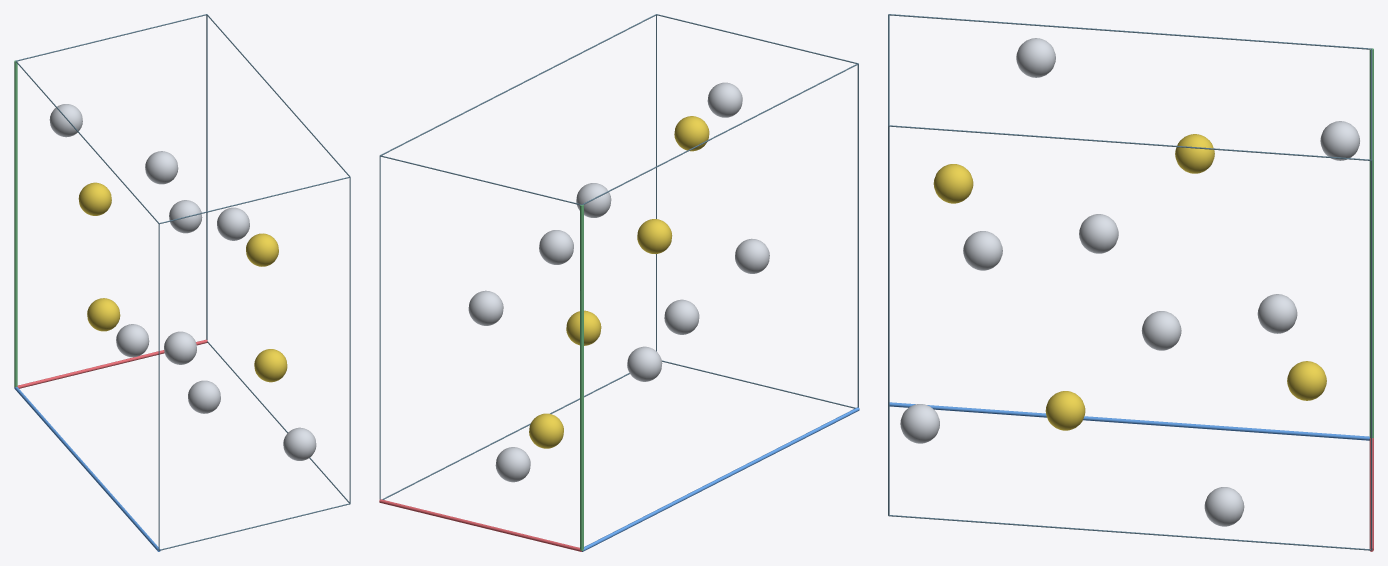
File: acanthite.glb
The picture shows the model from 3 angles, left to right: view 1: azimuth 30°, elevation 25°; view 2: azimuth 150°, elevation 25°; view 3: azimuth 270°, elevation 25°; orthographic projection. The views are drawn at different scales.
Visible parts, largest first — view 1: Ô mạng và các trục a, b, c, S · S · 1 (×4), AgI · Ag · 1 (×4), AgII · Ag · 1 (×4); view 2: Ô mạng và các trục a, b, c, AgI · Ag · 1 (×4), AgII · Ag · 1 (×4), S · S · 1 (×4); view 3: Ô mạng và các trục a, b, c, AgI · Ag · 1 (×4), AgII · Ag · 1 (×4), S · S · 1 (×4).
Part boxes in pixels (x1=…): Ô mạng và các trục a, b, c: x1=14, y1=14, x2=350, y2=551; S · S · 1 (×4): x1=78, y1=182, x2=287, y2=382; AgI · Ag · 1 (×4): x1=145, y1=151, x2=220, y2=413; AgII · Ag · 1 (×4): x1=49, y1=104, x2=316, y2=460; Ô mạng và các trục a, b, c: x1=379, y1=14, x2=859, y2=551; AgI · Ag · 1 (×4): x1=468, y1=82, x2=769, y2=482; AgII · Ag · 1 (×4): x1=539, y1=183, x2=699, y2=381; S · S · 1 (×4): x1=529, y1=116, x2=709, y2=448; Ô mạng và các trục a, b, c: x1=888, y1=14, x2=1373, y2=551; AgI · Ag · 1 (×4): x1=963, y1=38, x2=1297, y2=526; AgII · Ag · 1 (×4): x1=900, y1=121, x2=1359, y2=443; S · S · 1 (×4): x1=933, y1=134, x2=1326, y2=430.
Bounding box in the file's own units: 5.59 × 7.34 × 7.81.
